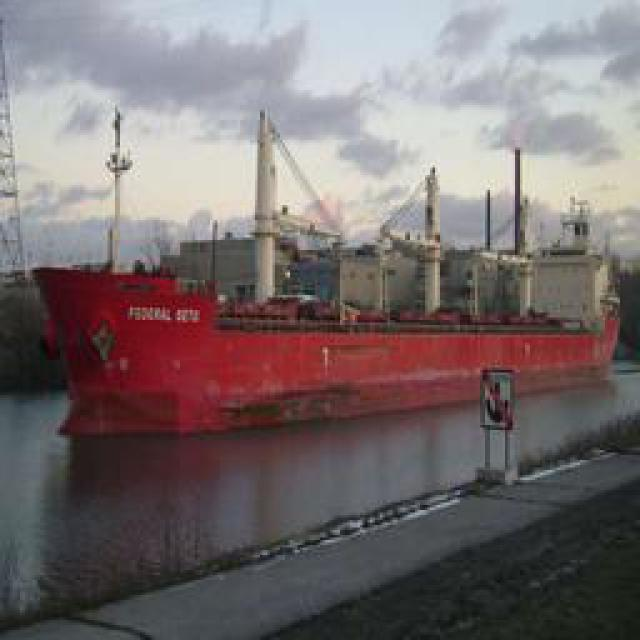Ship: (34, 116, 619, 430)
